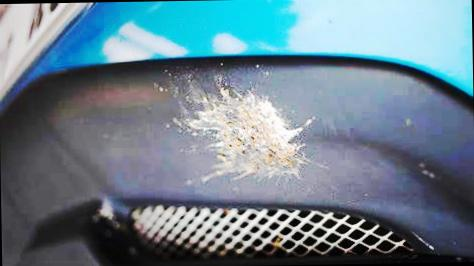Bird Poop: (186, 88, 312, 182)
